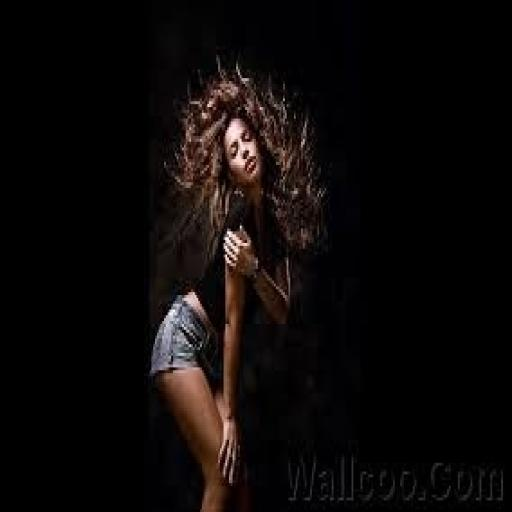dancing: (146, 55, 328, 509)
